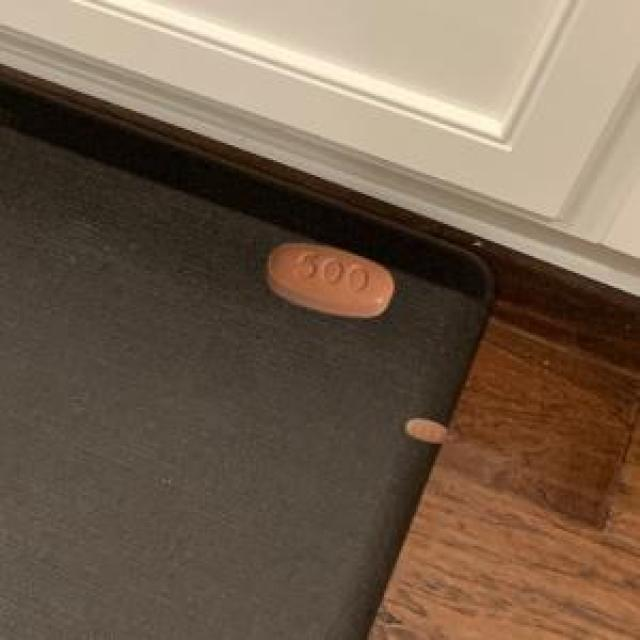Biogesic: (249, 227, 406, 334), (398, 403, 456, 454)
